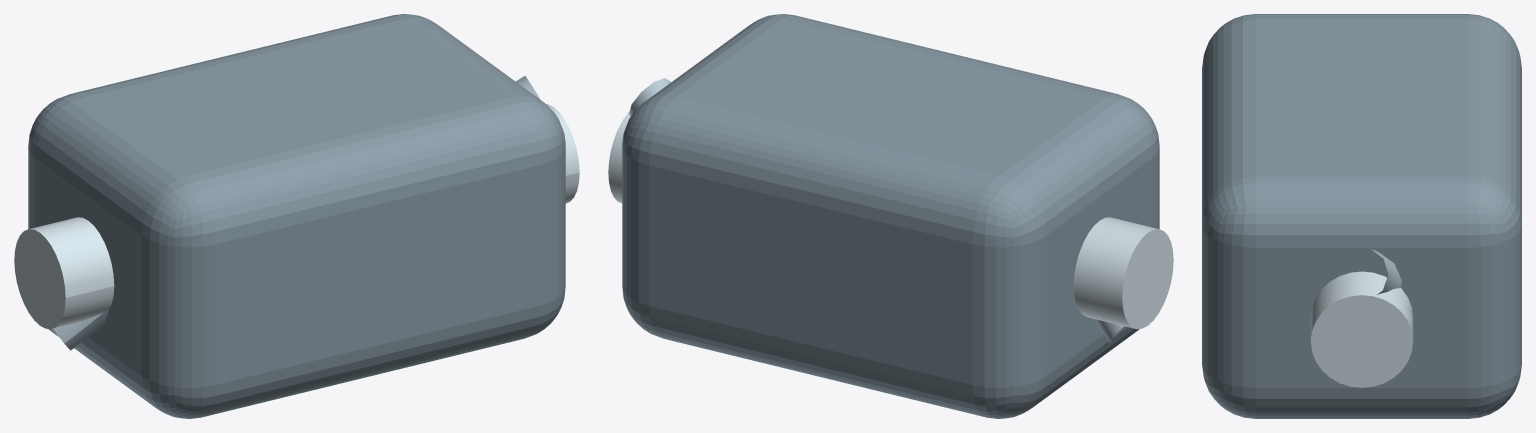
File: g4ed_automatic_transmission_coupling.glb
3 renders of one model, left to right at view 1: azimuth 30°, elevation 25°; view 2: azimuth 150°, elevation 25°; view 3: azimuth 270°, elevation 25°, orthographic.
Parts seen in each view (by area): view 1: asset_mesh__g4ed_363__reference_body, asset_mesh__g4ed_363__reference_axis, asset_mesh__g4ed_368__reference_flow_path; view 2: asset_mesh__g4ed_363__reference_body, asset_mesh__g4ed_363__reference_axis, asset_mesh__g4ed_368__reference_flow_path; view 3: asset_mesh__g4ed_363__reference_body, asset_mesh__g4ed_363__reference_axis, asset_mesh__g4ed_368__reference_flow_path.
Part boxes in pixels (x1,y1,x2,y2): asset_mesh__g4ed_363__reference_body: (28,14,565,418); asset_mesh__g4ed_363__reference_axis: (14,104,579,329); asset_mesh__g4ed_368__reference_flow_path: (53,76,540,350); asset_mesh__g4ed_363__reference_body: (622,14,1159,418); asset_mesh__g4ed_363__reference_axis: (608,111,1173,329); asset_mesh__g4ed_368__reference_flow_path: (629,78,1123,343); asset_mesh__g4ed_363__reference_body: (1202,14,1521,418); asset_mesh__g4ed_363__reference_axis: (1310,271,1413,387); asset_mesh__g4ed_368__reference_flow_path: (1371,249,1401,294).
Bounding box in the file's own units: 1.98 × 0.8979 × 1.07.
